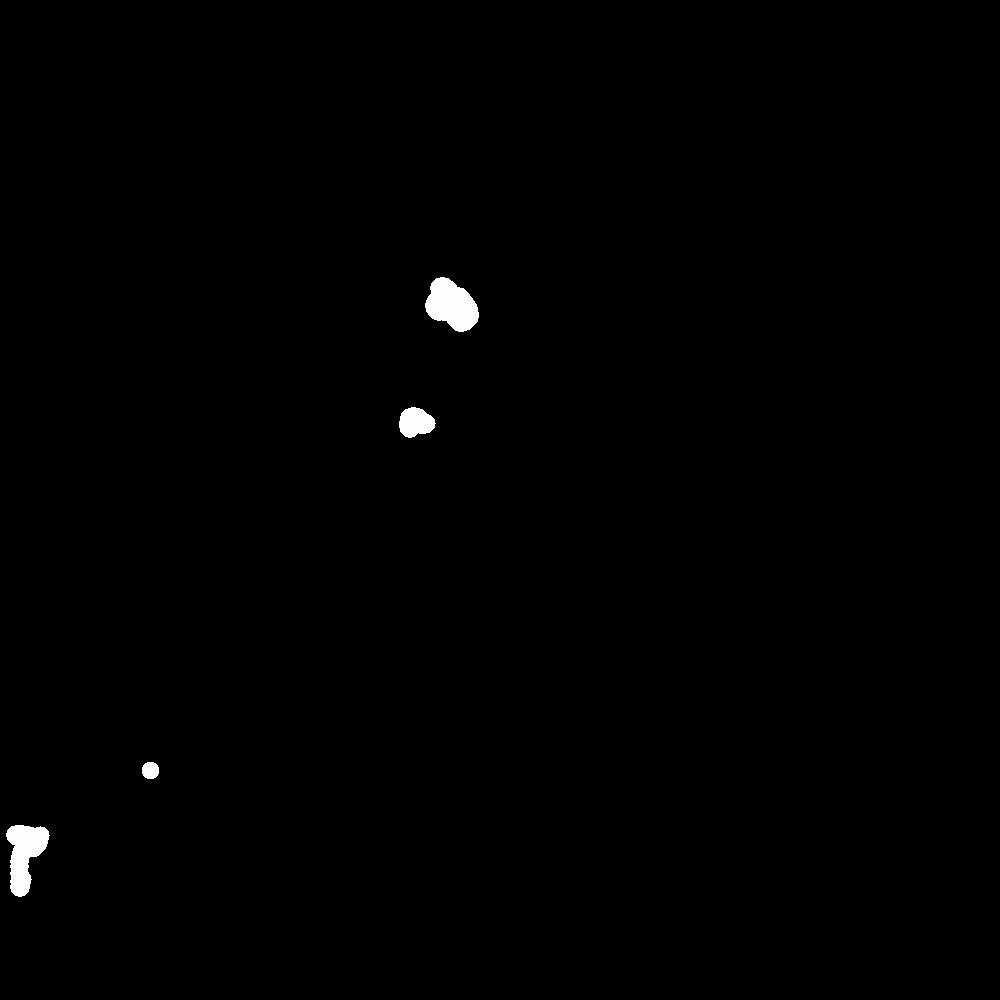illegal: (399, 409, 428, 439)
